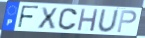C: (56, 7, 79, 31)
F: (16, 5, 40, 30)
H: (76, 8, 100, 33)
P: (116, 10, 138, 34)
U: (97, 10, 120, 34)
X: (37, 7, 59, 30)
